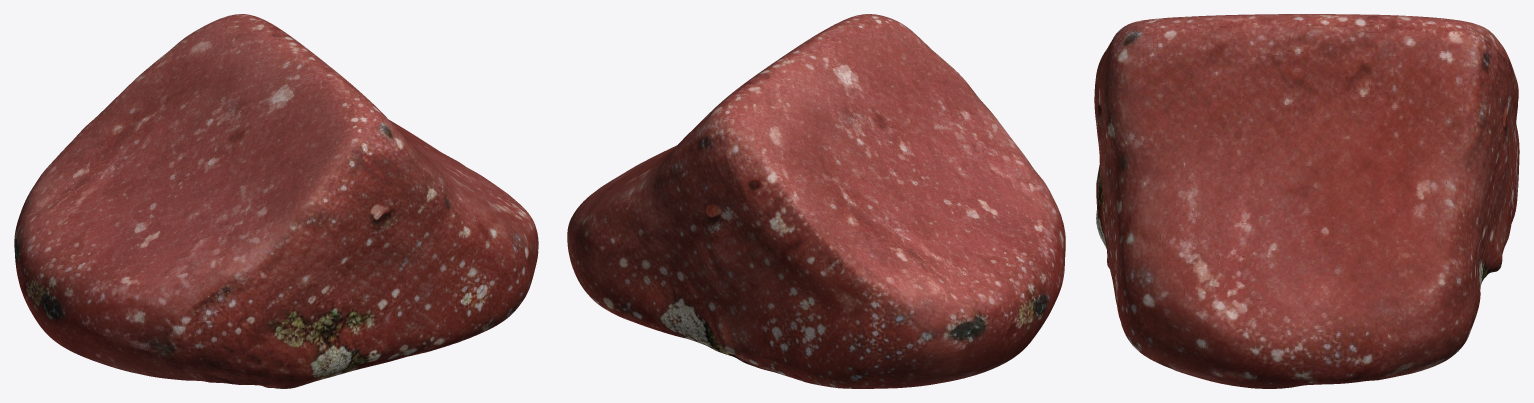
Rendered from traveler_env_coast_cakon_paddy_red_stone_00001_.glb.
3 renders of one model, left to right at view 1: azimuth 30°, elevation 25°; view 2: azimuth 150°, elevation 25°; view 3: azimuth 270°, elevation 25°, orthographic. The views are drawn at different scales.
Parts seen in each view (by area): view 1: temp_mesh.ply; view 2: temp_mesh.ply; view 3: temp_mesh.ply.
Boxes of the visible parts, x1=… form: temp_mesh.ply: x1=14, y1=14, x2=538, y2=388; temp_mesh.ply: x1=567, y1=14, x2=1065, y2=388; temp_mesh.ply: x1=1094, y1=14, x2=1519, y2=388.
Size of the model in its own units: 1.97 by 1.05 by 1.4.
1 material, 1 textured.
